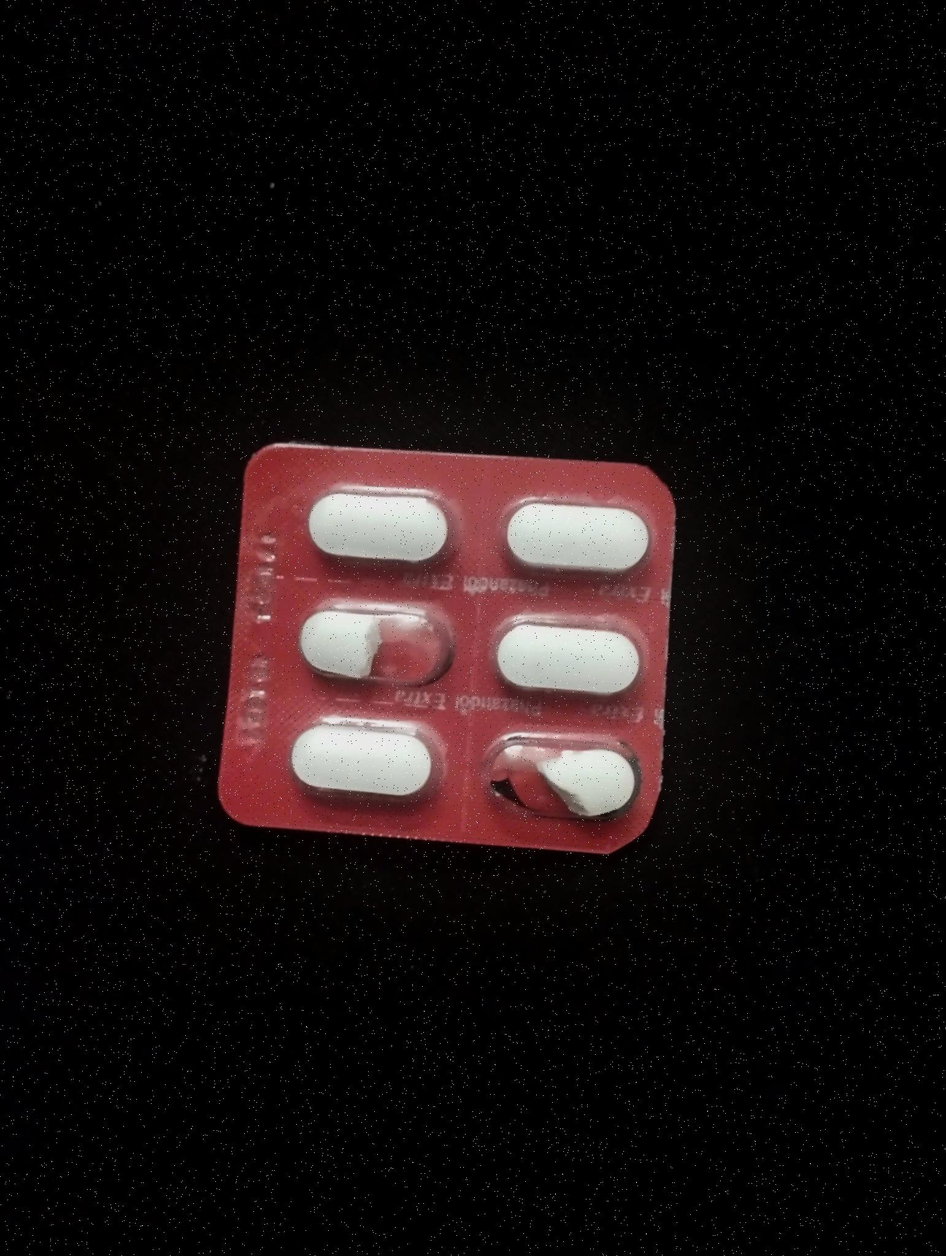Full: (479, 610, 645, 708), (298, 480, 458, 581), (494, 492, 653, 591), (283, 714, 445, 803)
Partial: (289, 596, 466, 694), (479, 730, 647, 827)
